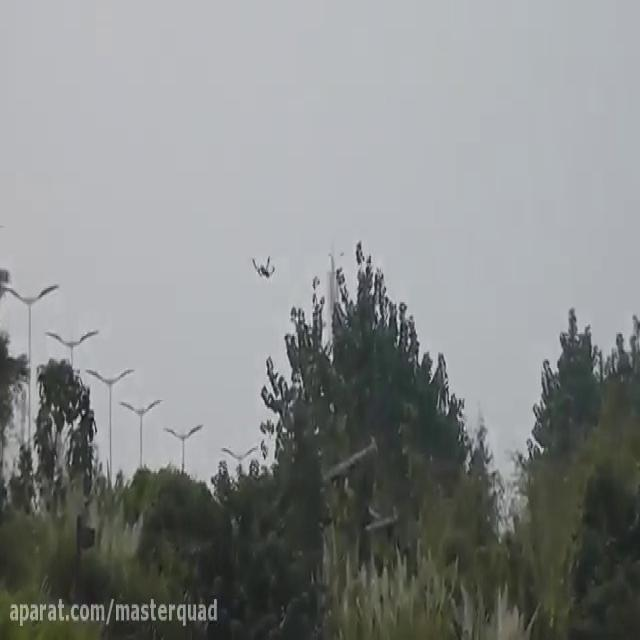drone: (248, 245, 277, 283)
